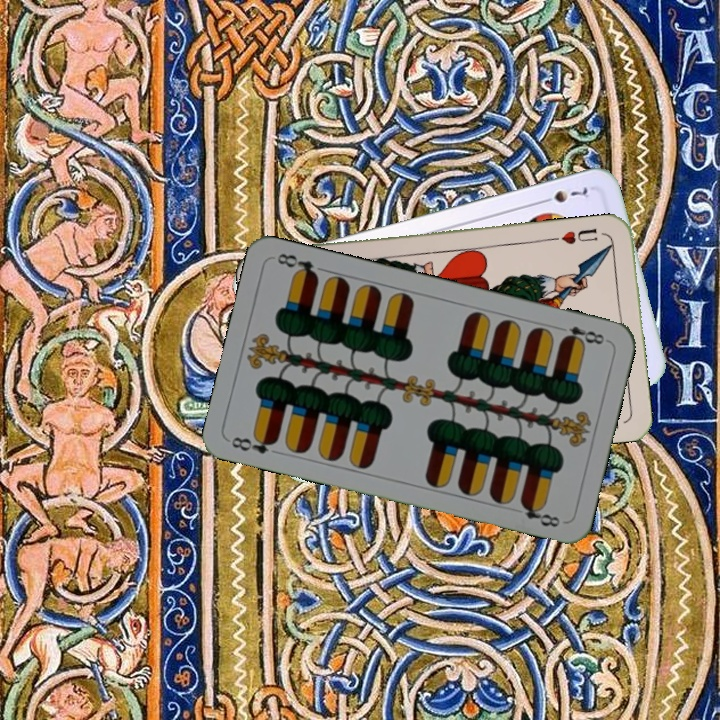E8: (553, 322, 610, 348), (227, 430, 281, 457)
HU: (549, 224, 600, 247)
S7: (535, 183, 590, 207)
